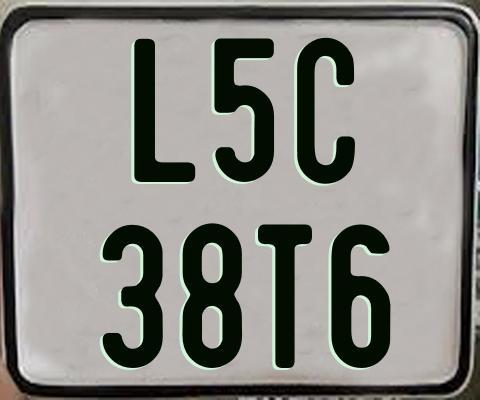3: (102, 223, 162, 369)
5: (212, 36, 275, 180)
6: (330, 223, 396, 367)
8: (179, 221, 239, 371)
C: (296, 35, 359, 186)
L: (131, 36, 195, 179)
T: (255, 224, 309, 373)
